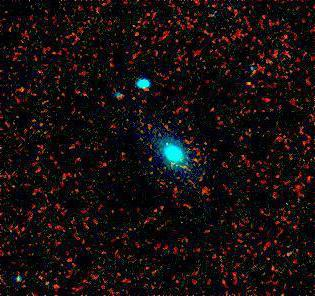star: (233, 67, 263, 97)
